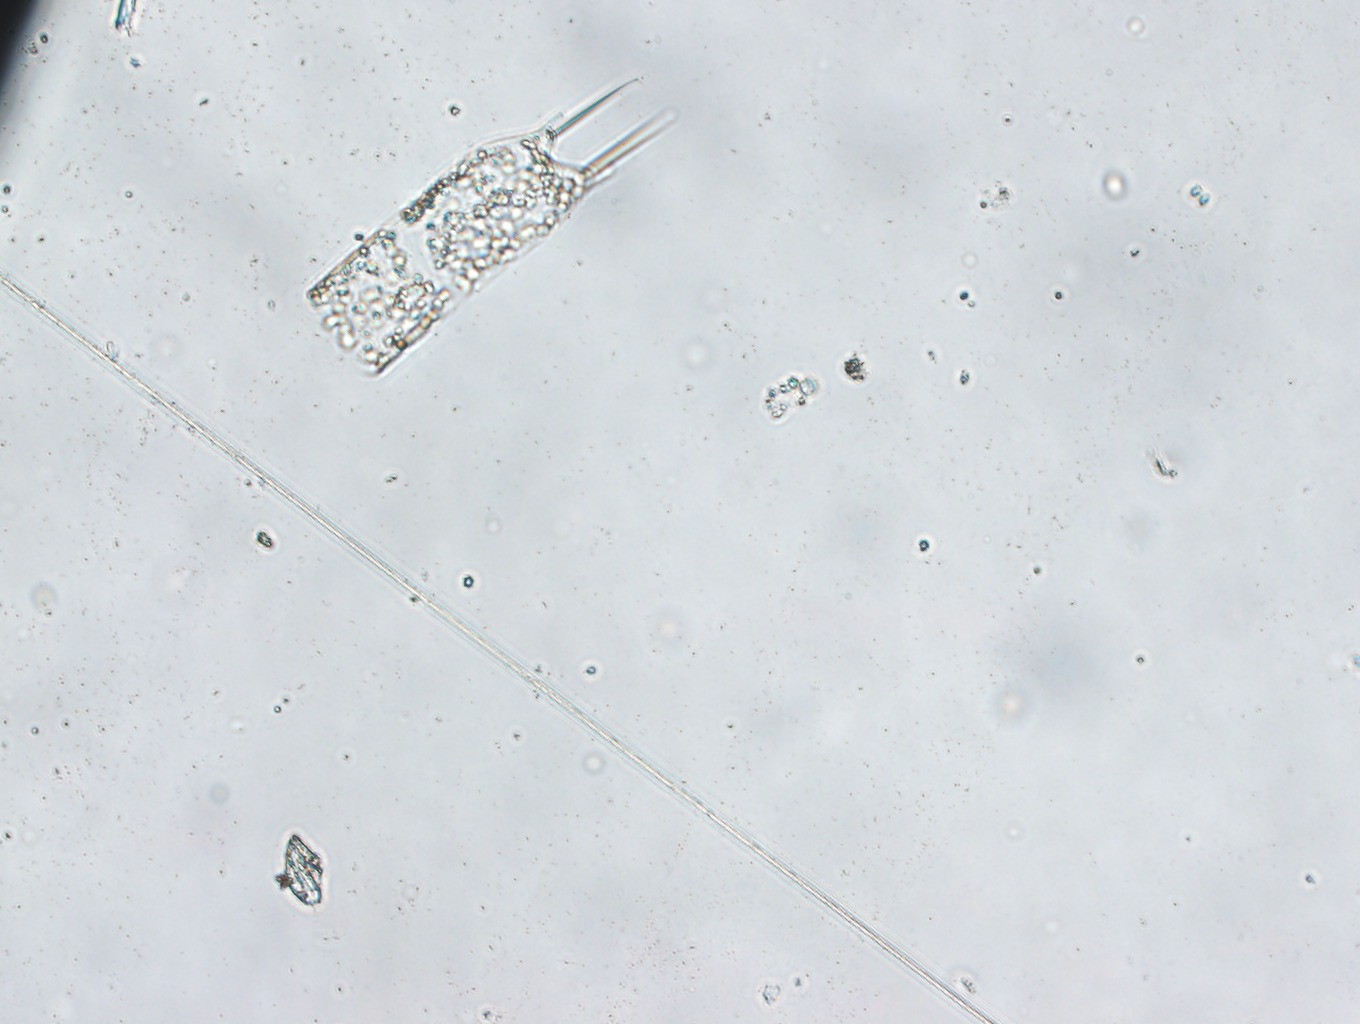biddulphia: (305, 76, 679, 378)
